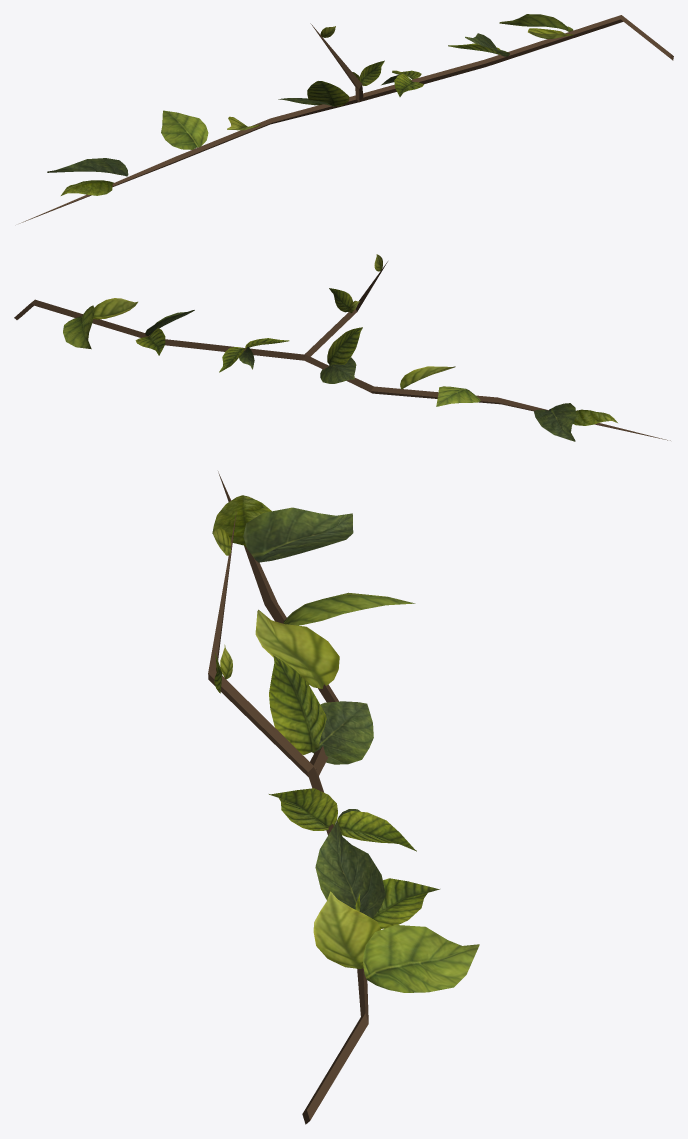
File: ivy_02.fbx
3 renders of one model, top to bottom at view 1: azimuth 30°, elevation 25°; view 2: azimuth 150°, elevation 25°; view 3: azimuth 270°, elevation 25°, orthographic. The views are drawn at different scales.
Parts seen in each view (by area): view 1: ivy_02; view 2: ivy_02; view 3: ivy_02.
Boxes of the visible parts, <box> form: ivy_02: <box>19,14,673,223</box>; ivy_02: <box>14,254,670,441</box>; ivy_02: <box>208,471,479,1124</box>.
Size of the model in its own units: 5.85 by 1.19 by 1.08.
